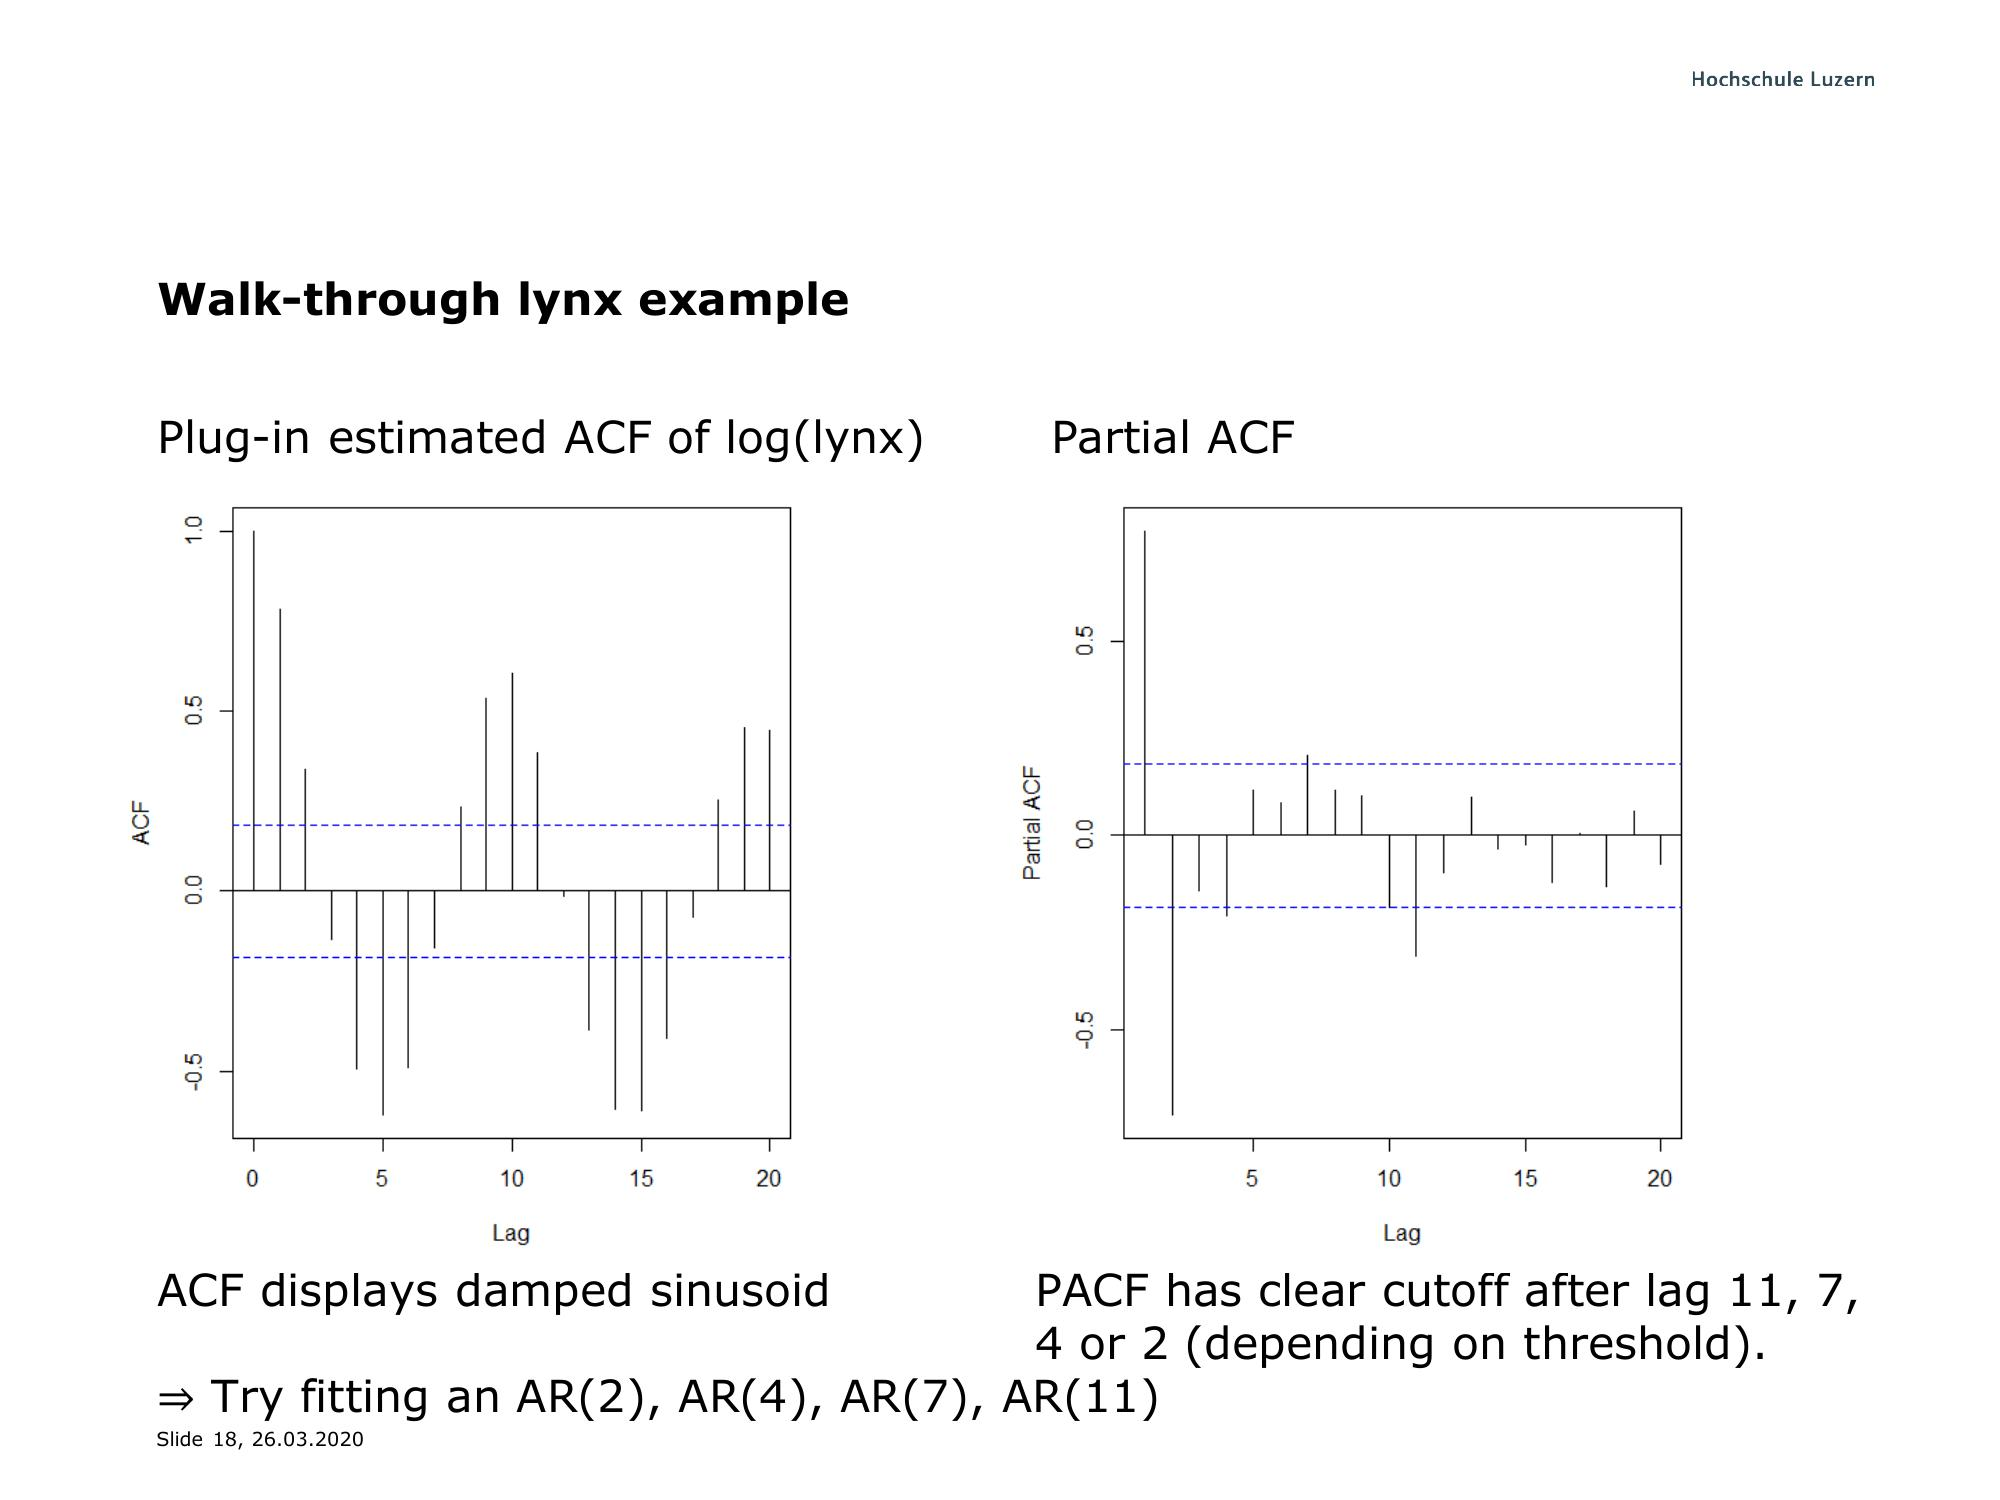Title: (135, 265, 865, 336)
